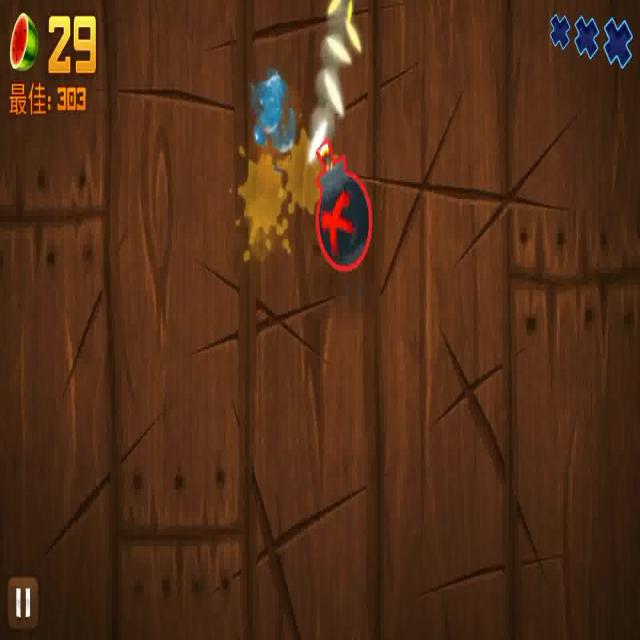bomb: (300, 124, 375, 274)
